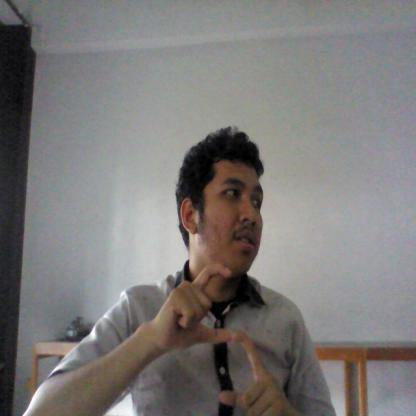S: (145, 242, 283, 416)
